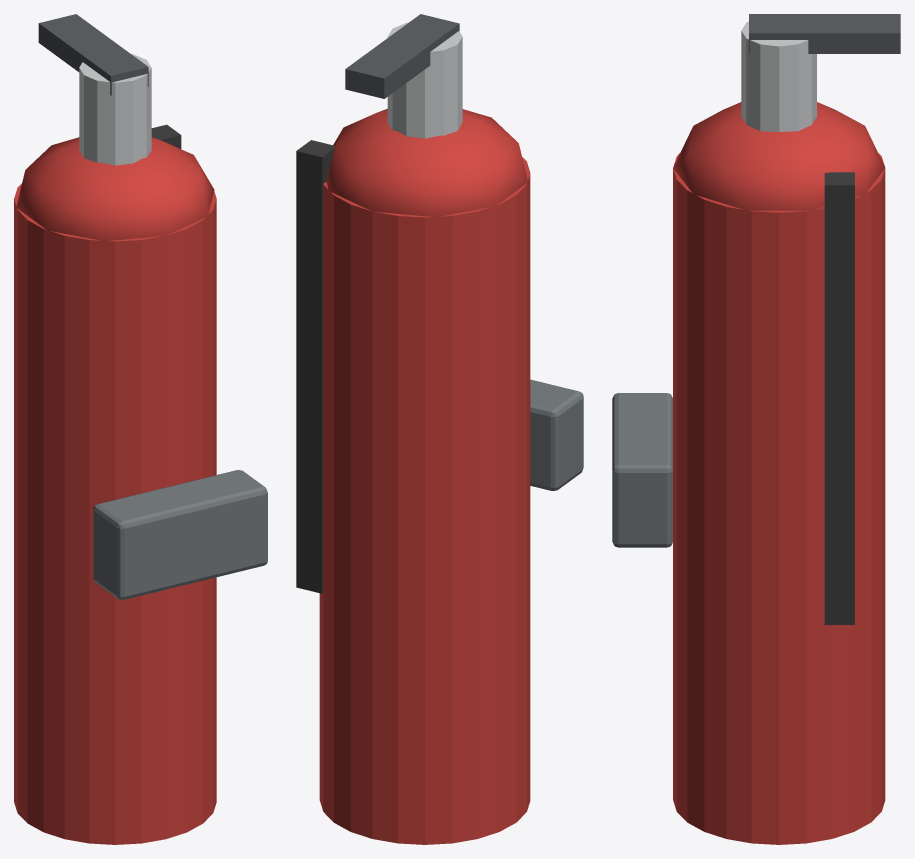
The model's file is fire_extinguisher.glb.
3 views of the same model, side by side, from view 1: azimuth 30°, elevation 25°; view 2: azimuth 150°, elevation 25°; view 3: azimuth 270°, elevation 25° (orthographic). The views are drawn at different scales.
Parts seen in each view (by area): view 1: fire_extinguisher; view 2: fire_extinguisher; view 3: fire_extinguisher.
Part boxes in pixels (bbox=[...]): fire_extinguisher: bbox=[14, 14, 267, 844]; fire_extinguisher: bbox=[296, 14, 583, 844]; fire_extinguisher: bbox=[612, 14, 900, 844].
Bounding box in the file's own units: 0.14 × 0.565 × 0.19.
